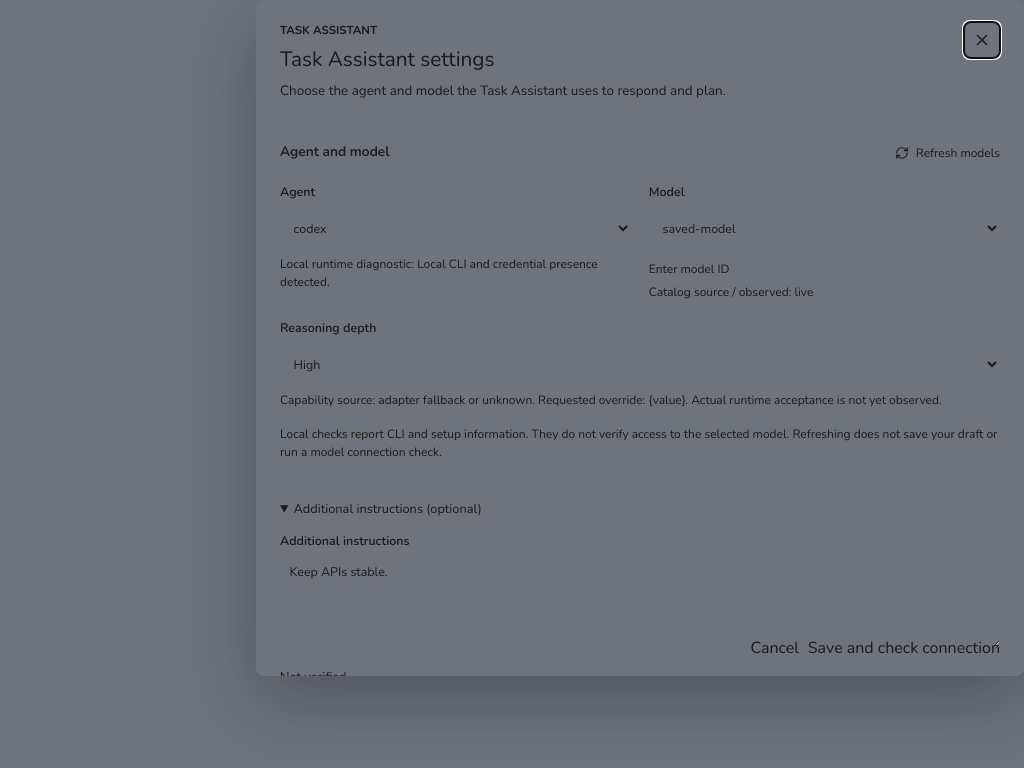
Test: marks previous discovery stale after an empty or malformed response: {"agents":[]}
Click the button "Refresh models" at (948, 153), box [895,139,1000,167]
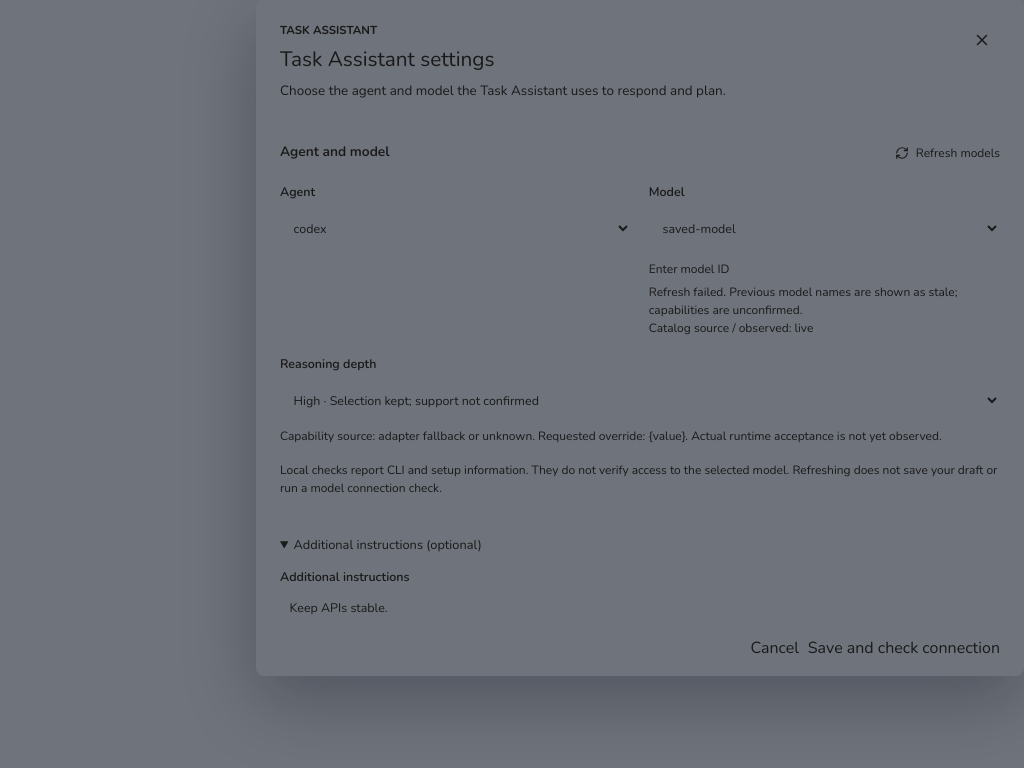
Expected: the text box labelled "Additional instructions" holds "Keep APIs stable.", [280,591,1000,676]
Expected: the dropdown labelled "Reasoning depth" shows "High · Selection kept; support not confirmed", [280,378,1000,422]
